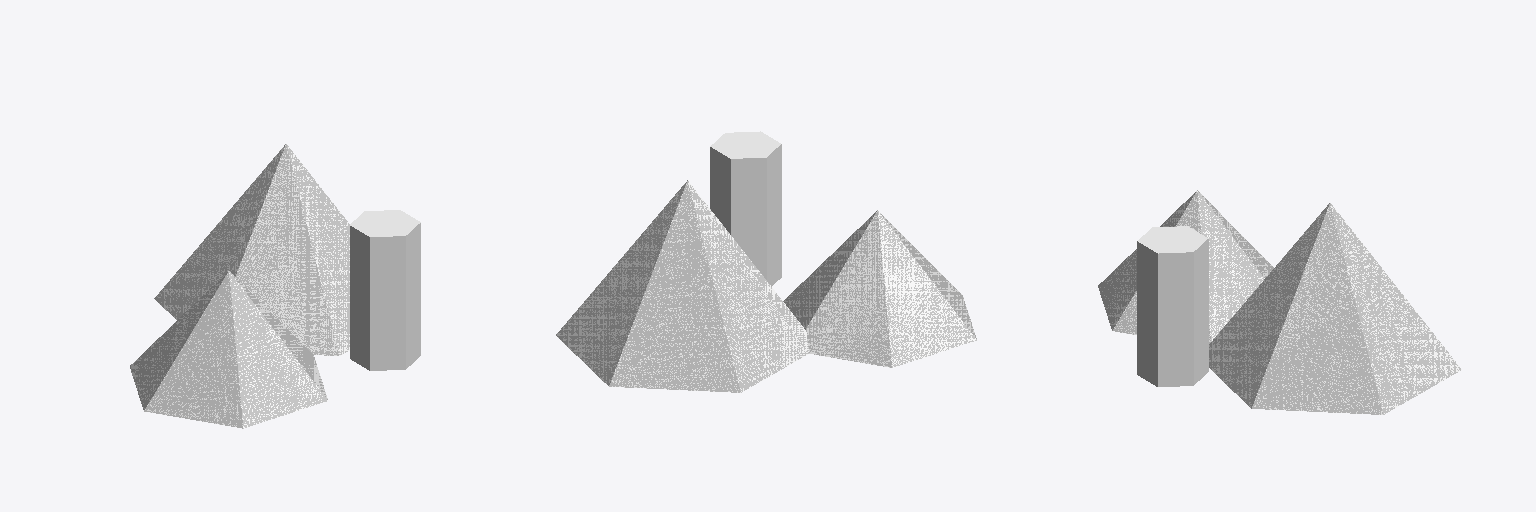
The model's file is Erlenmeyer_Solid.obj.
3 renders of one model, left to right at view 1: azimuth 30°, elevation 25°; view 2: azimuth 150°, elevation 25°; view 3: azimuth 270°, elevation 25°, orthographic.
Visible parts, largest first — view 1: Mesh2 Model, Mesh1 Model; view 2: Mesh2 Model, Mesh1 Model; view 3: Mesh2 Model, Mesh1 Model.
Part boxes in pixels (bbox=[...]): Mesh2 Model: bbox=[130, 144, 349, 428]; Mesh1 Model: bbox=[350, 210, 420, 370]; Mesh2 Model: bbox=[556, 180, 976, 392]; Mesh1 Model: bbox=[710, 131, 781, 286]; Mesh2 Model: bbox=[1098, 190, 1461, 414]; Mesh1 Model: bbox=[1137, 226, 1208, 386].
Size of the model in its own units: 0.0518 by 0.0248 by 0.0508.